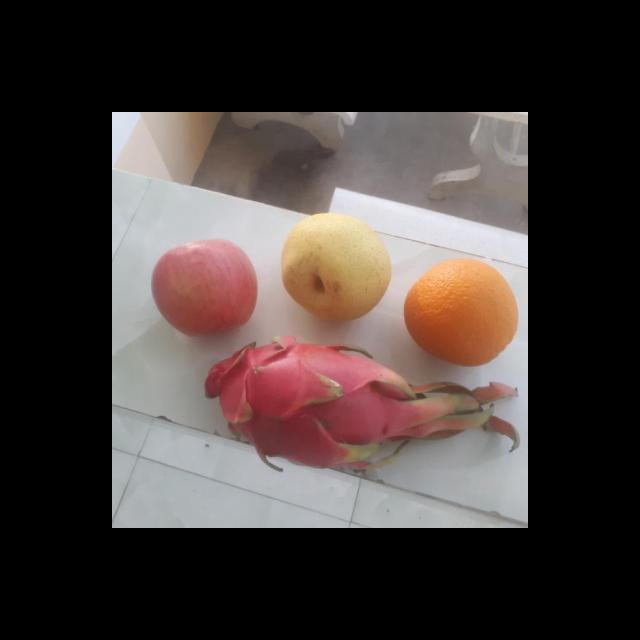apple: (148, 239, 256, 333)
orange: (400, 254, 521, 364)
pear: (278, 214, 393, 321)
pitaya: (190, 336, 384, 456)
